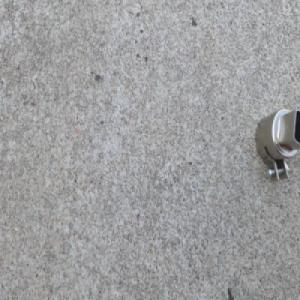MetalPart: (252, 103, 300, 184)
